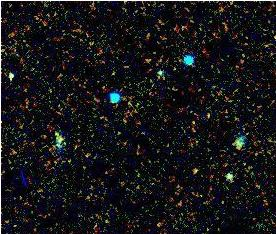star: (177, 155, 207, 185)
